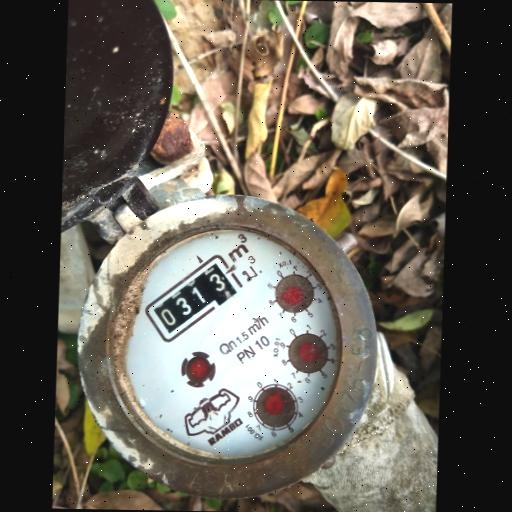0: (152, 299, 185, 334)
1: (184, 275, 216, 311)
3: (196, 263, 239, 307), (166, 285, 203, 323)
border_water_meter_number: (140, 250, 246, 346)
